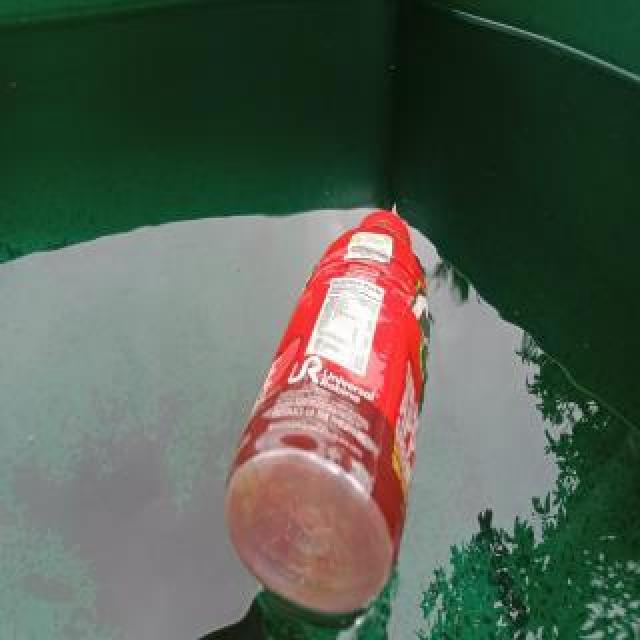bottle: (220, 209, 436, 617)
